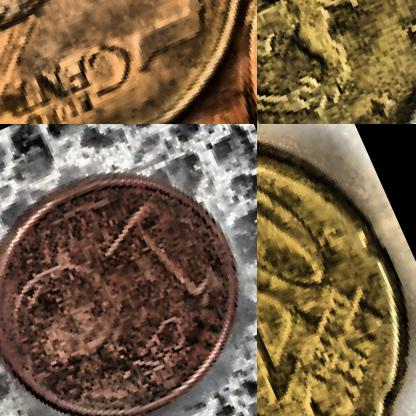coin: (0, 129, 256, 415), (257, 124, 415, 415), (0, 0, 256, 123), (257, 0, 415, 123)
